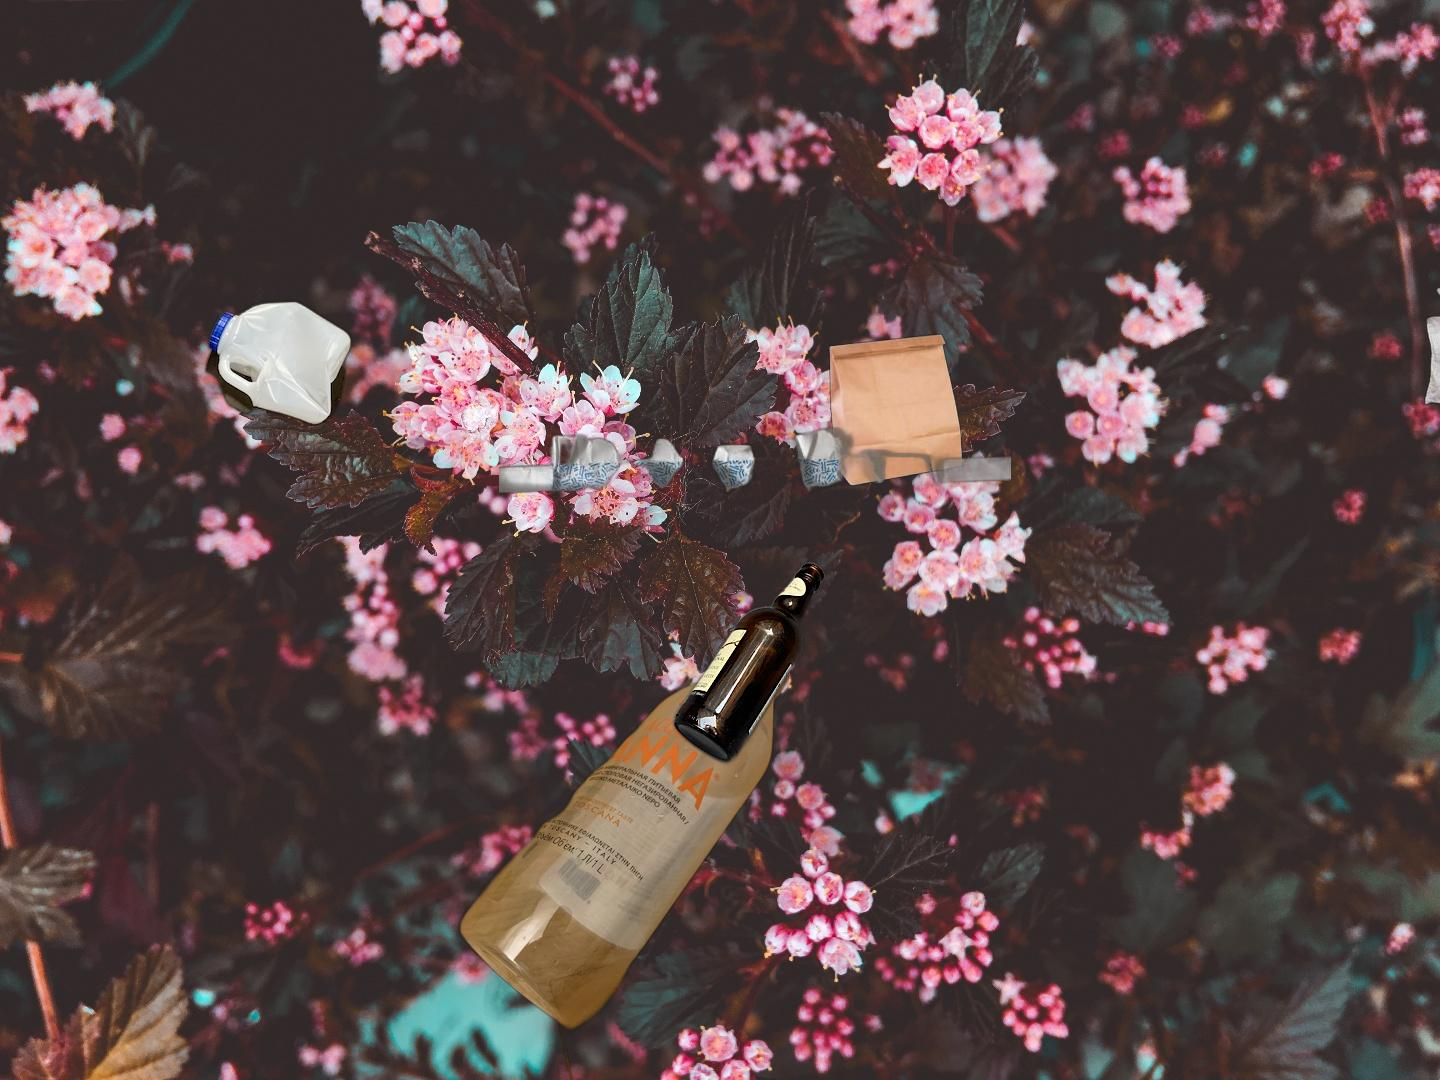glass: (669, 556, 830, 769)
paper: (499, 424, 1011, 550)
paper-bag: (825, 331, 965, 489)
plastic-bag: (1421, 223, 1440, 414)
plastic-bottles: (457, 649, 789, 1080), (201, 295, 356, 444)
